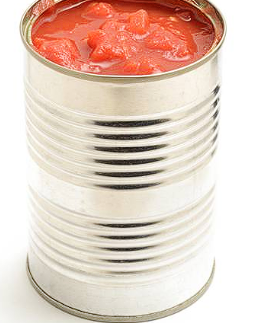Danificado: (21, 0, 251, 77)
